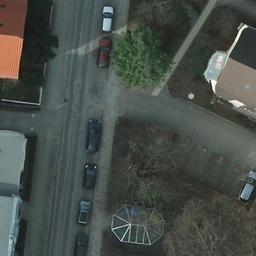car: (238, 172, 256, 204), (96, 37, 112, 70), (100, 6, 114, 36), (81, 162, 97, 188), (85, 121, 98, 152), (76, 200, 91, 223), (72, 232, 87, 255)
